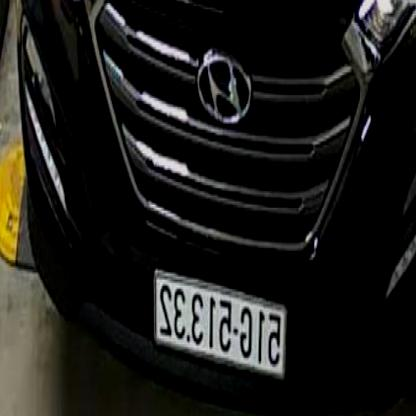license plate: (164, 275, 291, 343)
